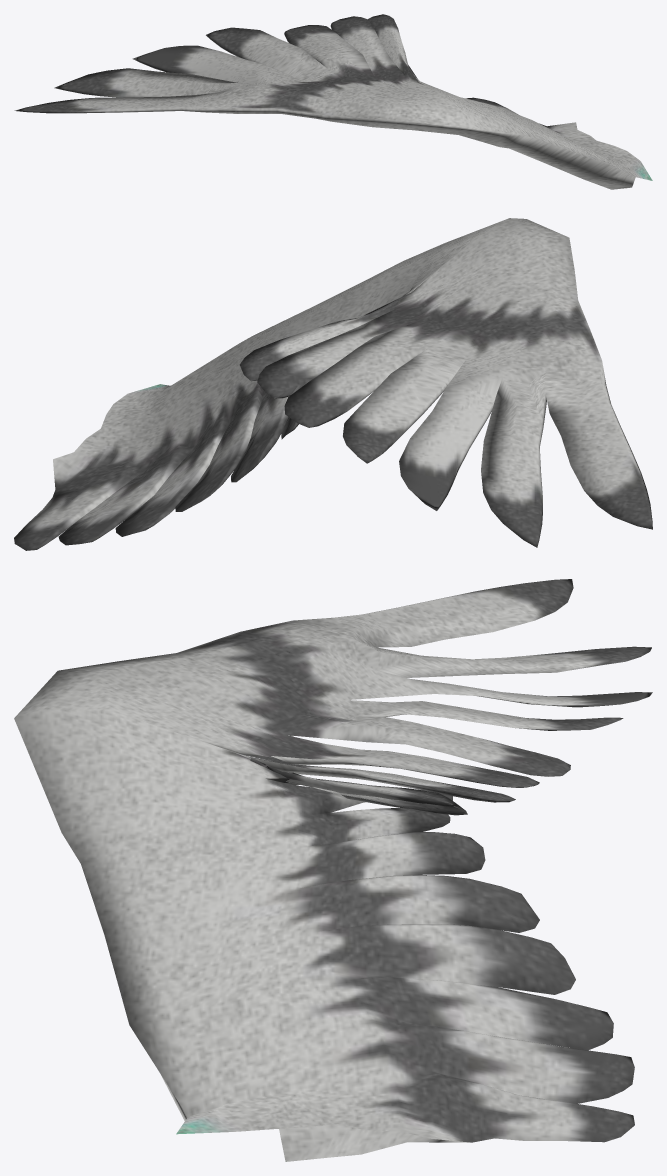
Rendered from aladerecha.obj.
3 renders of one model, top to bottom at view 1: azimuth 30°, elevation 25°; view 2: azimuth 150°, elevation 25°; view 3: azimuth 270°, elevation 25°, orthographic. The views are drawn at different scales.
Visible parts, largest first — view 1: paloma_texturizad_Esqueleto_Dan:Paloma_completa_paloma_text.000_; view 2: paloma_texturizad_Esqueleto_Dan:Paloma_completa_paloma_text.000_; view 3: paloma_texturizad_Esqueleto_Dan:Paloma_completa_paloma_text.000_.
Part boxes in pixels (x1=…): paloma_texturizad_Esqueleto_Dan:Paloma_completa_paloma_text.000_: x1=14, y1=14, x2=652, y2=189; paloma_texturizad_Esqueleto_Dan:Paloma_completa_paloma_text.000_: x1=14, y1=218, x2=652, y2=550; paloma_texturizad_Esqueleto_Dan:Paloma_completa_paloma_text.000_: x1=14, y1=579, x2=652, y2=1161.
Bounding box in the file's own units: 1.89 × 0.6383 × 1.28.
Materials: 1 (1 with a texture image).
